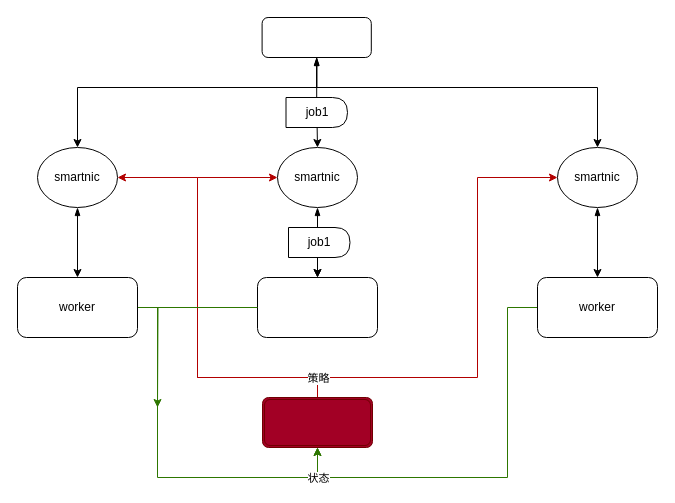
Some shapes in this 675 by 503 pixel diagram are drawn without their labels. Here are the shapes that lost their labels. From the top down, the centre of each, then its label:
(x=316, y=37): master
(x=317, y=307): 物理机
(x=317, y=422): agent
